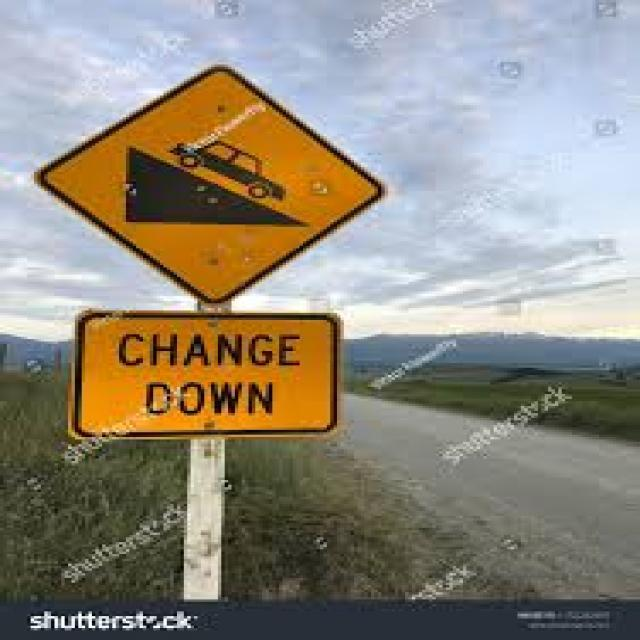steep descent: (40, 66, 389, 302)
